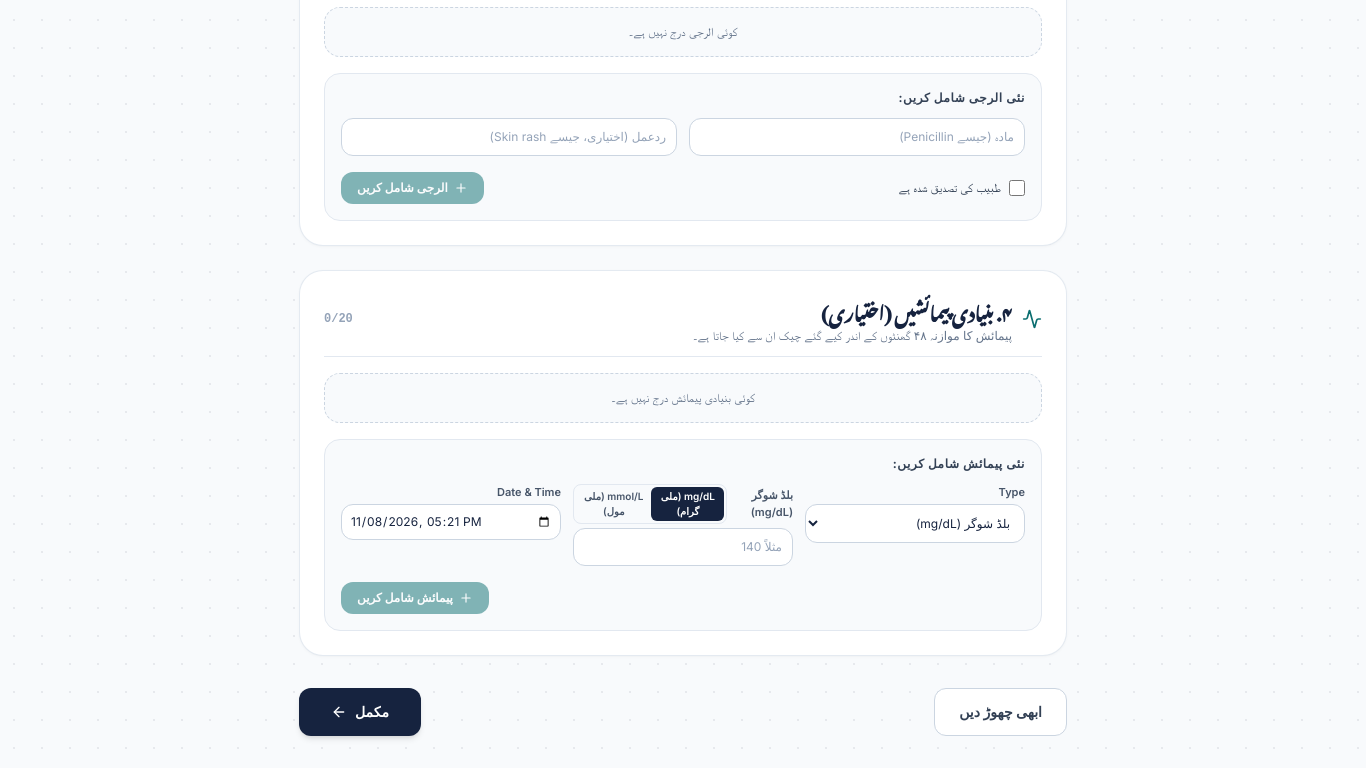
Bug Bash #85: Observation Input Card Glucose Unit Selector › displays localized Urdu labels, placeholder, and error for mmol/L
(page scrolled)
Check: the text "نئی پیمائش شامل کریں:" is shown, box [893,456,1025,471]
Click the button with id "glucose-unit-mmol-btn" at (614, 504), box [576,487,652,521]
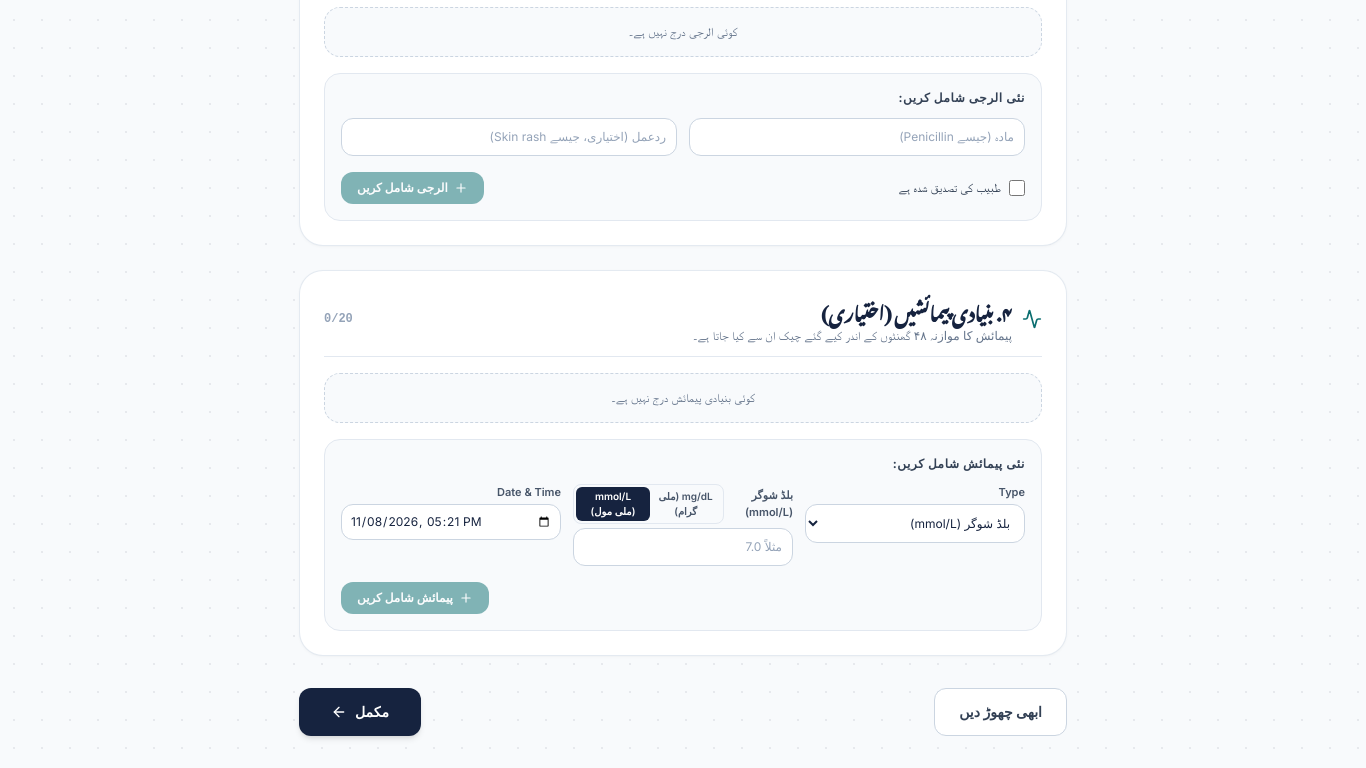
Check: the number field with placeholder "مثلاً 7.0" is shown
Note: Trigger validation error on 1.0
Type "1.0" into the number field with placeholder "مثلاً 7.0" at (683, 547), box [573,528,793,566]
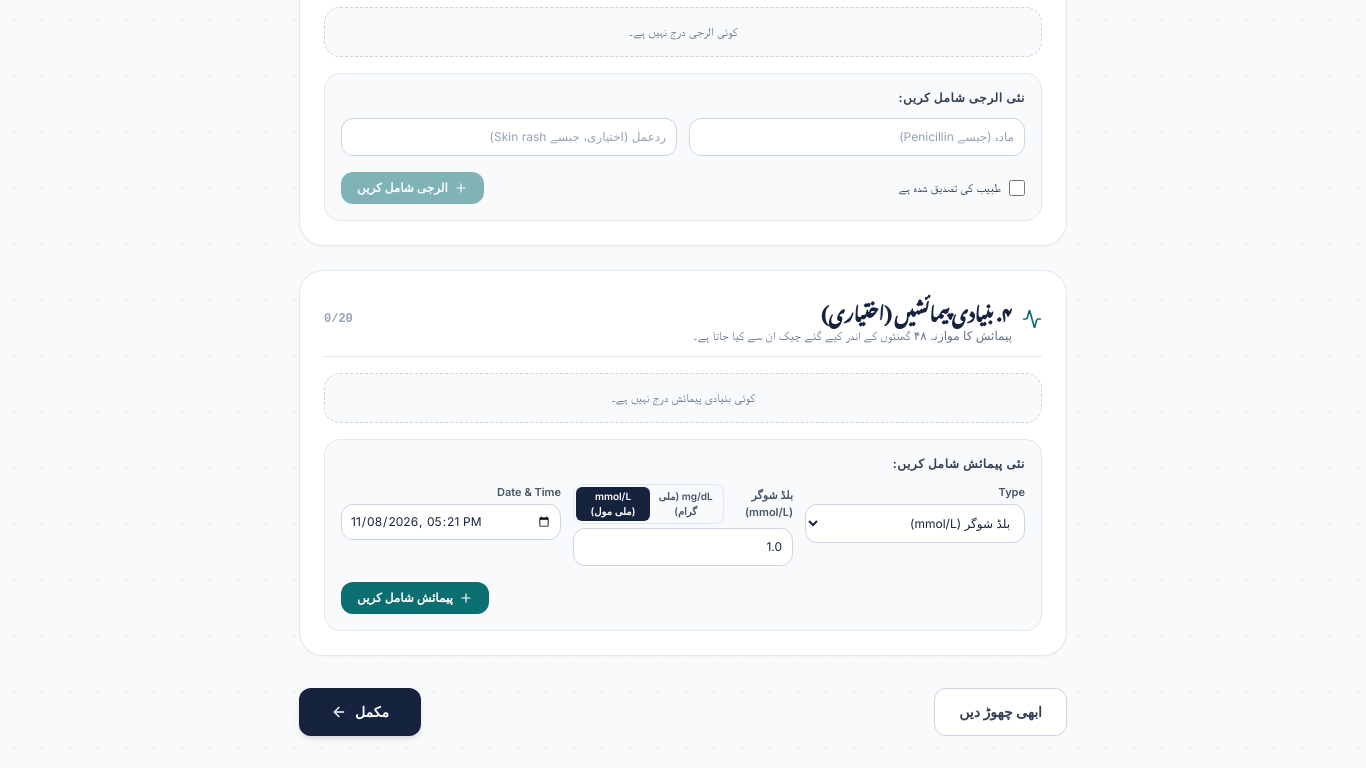
Click the button "پیمائش شامل کریں" at (415, 598), box [341,582,489,614]
(page scrolled)
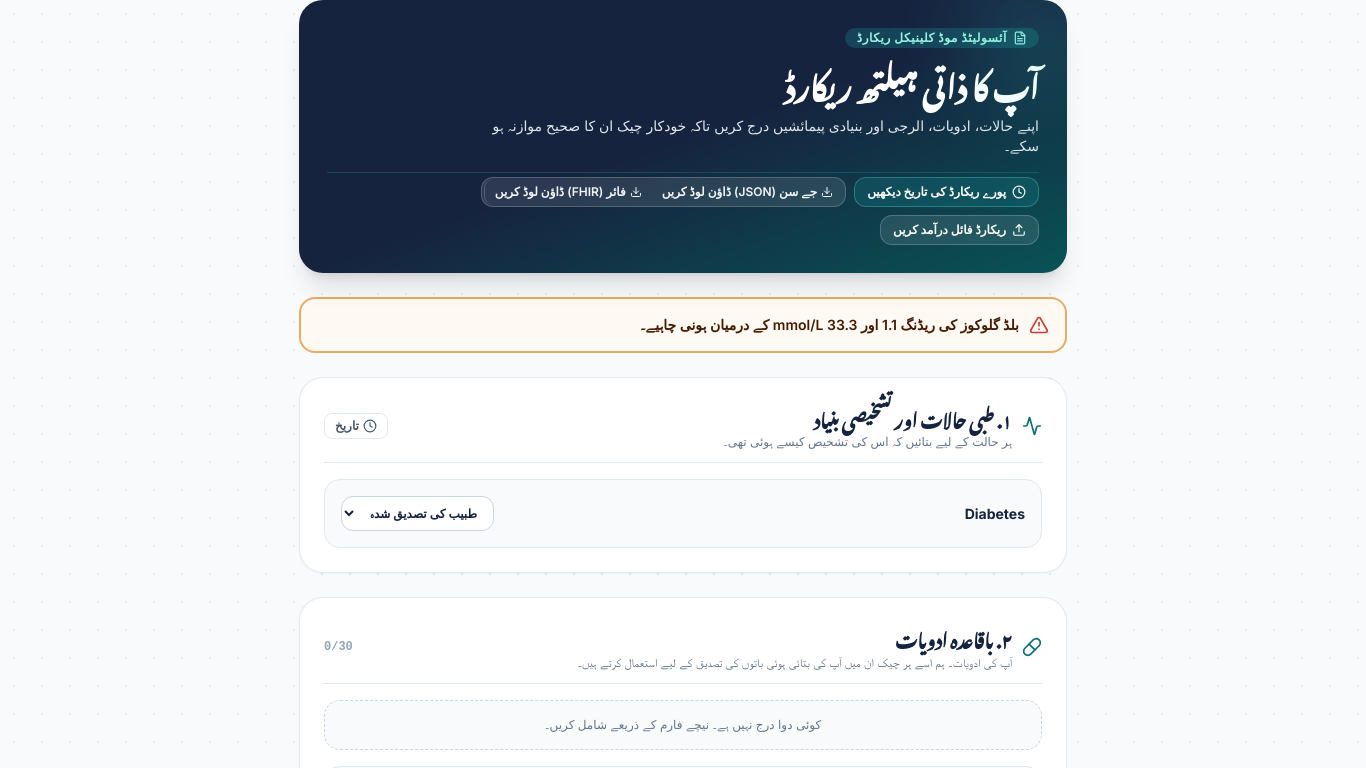
Check: the text "1.1 اور 33.3 mmol/L" is shown, box [640,316,1019,333]
